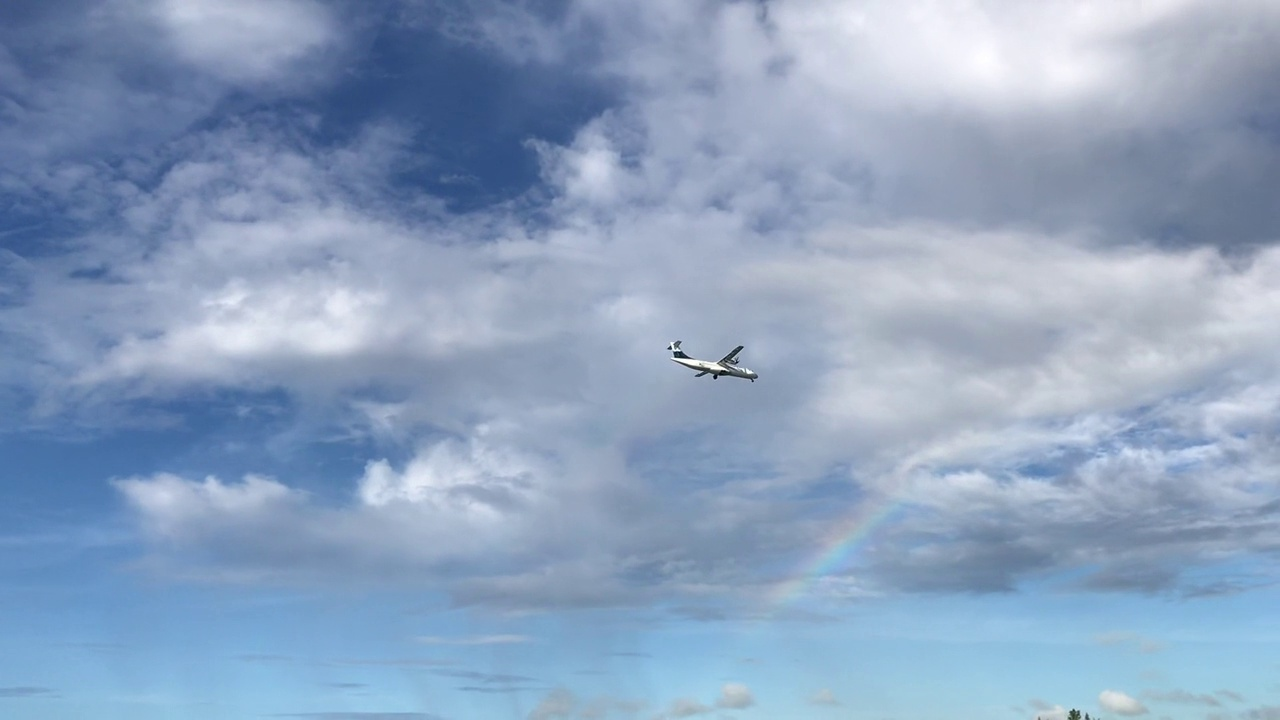plane: (666, 340, 759, 384)
